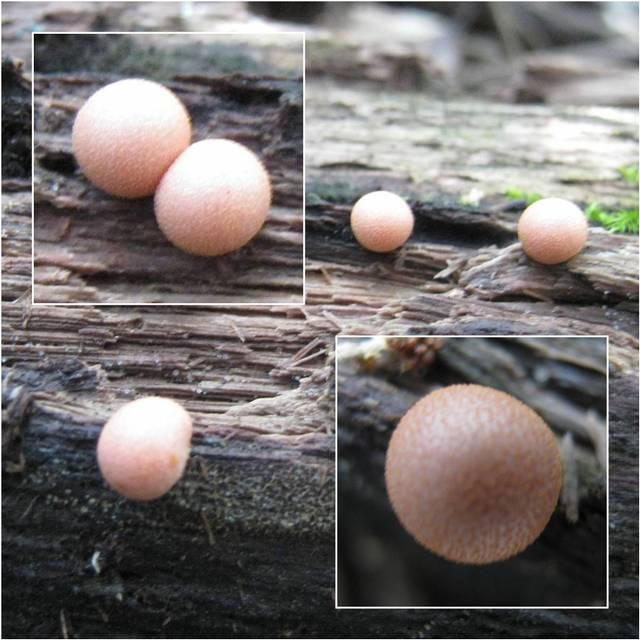Non-edible Mushroom: (383, 381, 564, 565), (70, 76, 192, 199), (152, 136, 272, 257), (95, 394, 193, 501), (516, 195, 588, 265), (349, 189, 414, 253)
